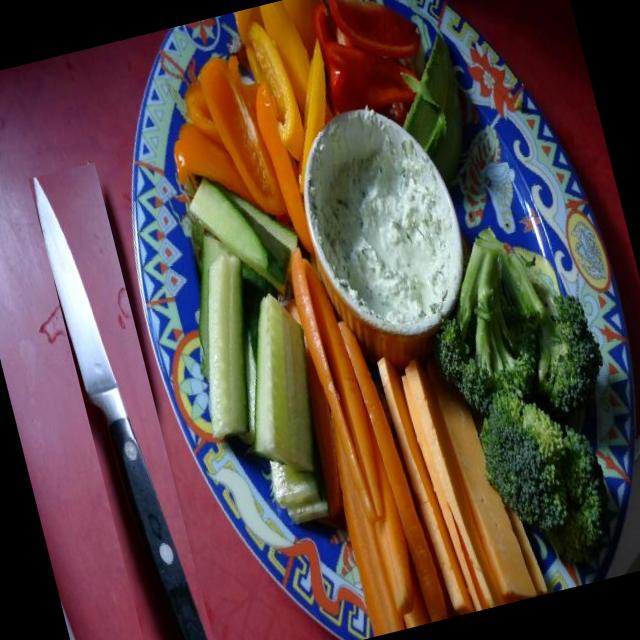Knife: (33, 178, 209, 640)
